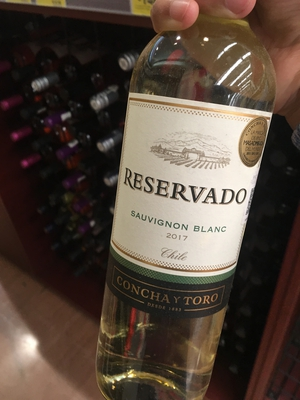reservado sauvignon blanc: (107, 14, 270, 400)
